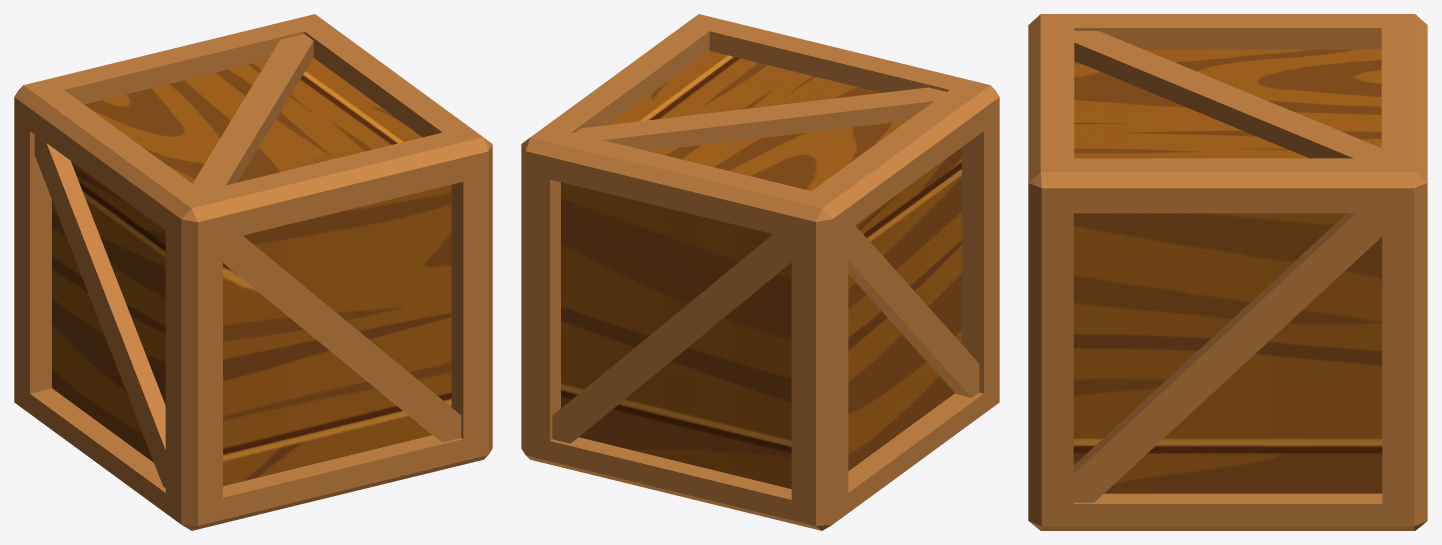
3 renders of one model, left to right at view 1: azimuth 30°, elevation 25°; view 2: azimuth 150°, elevation 25°; view 3: azimuth 270°, elevation 25°, orthographic. The views are drawn at different scales.
Visible parts, largest first — view 1: cubeBoxLP; view 2: cubeBoxLP; view 3: cubeBoxLP.
Boxes of the visible parts, <box> form: cubeBoxLP: <box>14,14,492,530</box>; cubeBoxLP: <box>521,14,999,530</box>; cubeBoxLP: <box>1028,14,1427,530</box>.
Size of the model in its own units: 1093 by 1083 by 1093.
2 materials, 1 textured.
